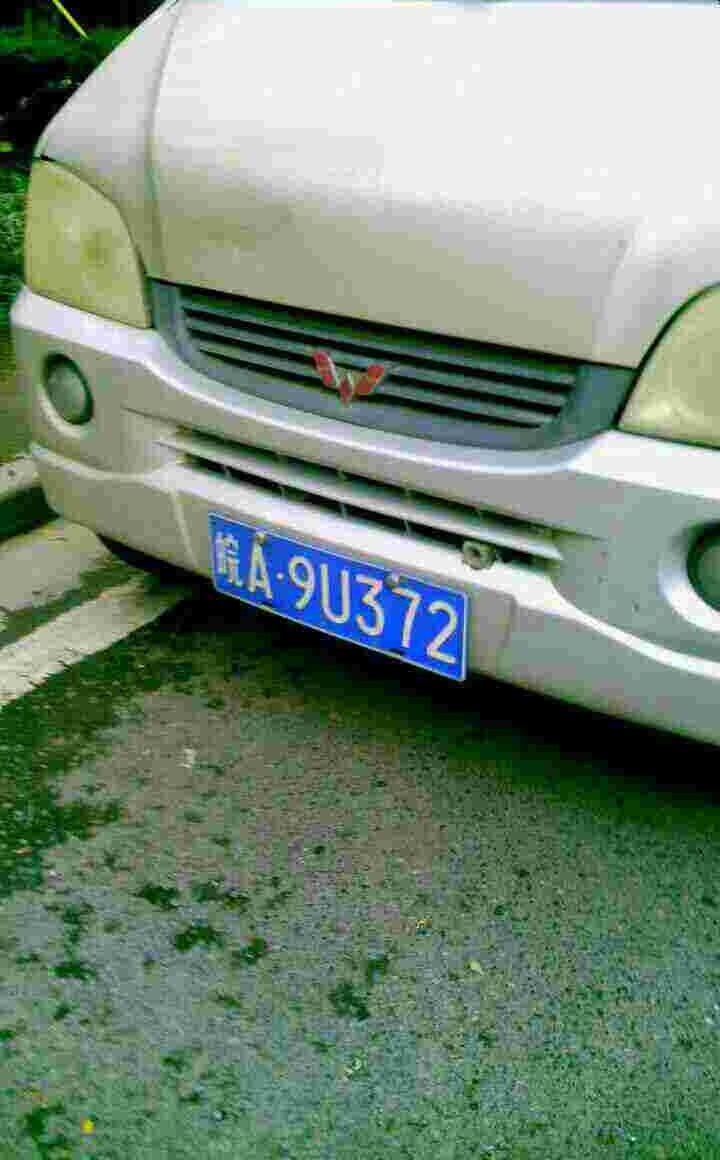license_plate: (215, 517, 470, 686)
